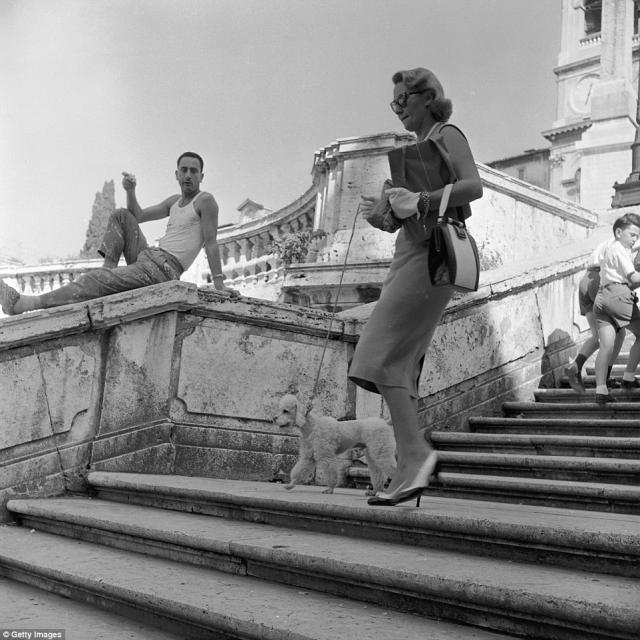body: (342, 64, 487, 510), (0, 148, 241, 320), (563, 212, 640, 395), (593, 214, 640, 405), (536, 325, 584, 393)
